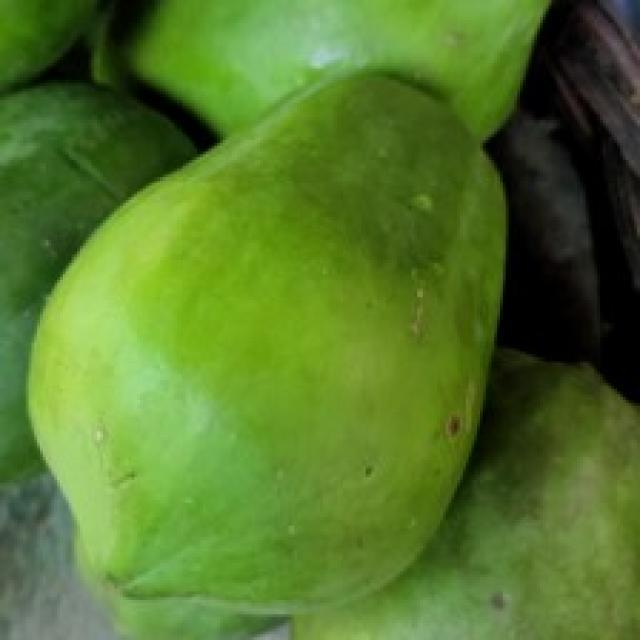Pepaya unrippen: (31, 70, 512, 609)
